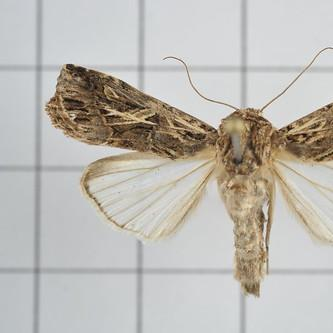Spodoptera litura: (44, 47, 333, 298)
